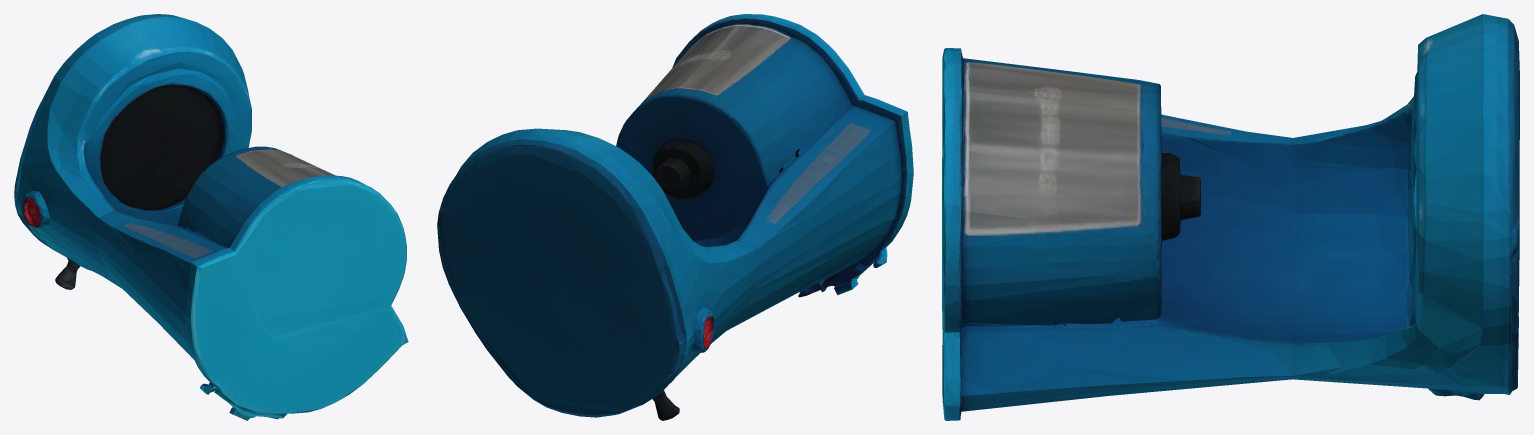
3 views of the same model, side by side, from view 1: azimuth 30°, elevation 25°; view 2: azimuth 150°, elevation 25°; view 3: azimuth 270°, elevation 25° (orthographic). The views are drawn at different scales.
Visible parts, largest first — view 1: geometry_0; view 2: geometry_0; view 3: geometry_0.
Part boxes in pixels (bbox=[...]): geometry_0: bbox=[14, 14, 408, 420]; geometry_0: bbox=[437, 14, 913, 420]; geometry_0: bbox=[942, 14, 1519, 420].
Size of the model in its own units: 0.1803 by 0.1891 by 0.2548.
1 material, 1 textured.
